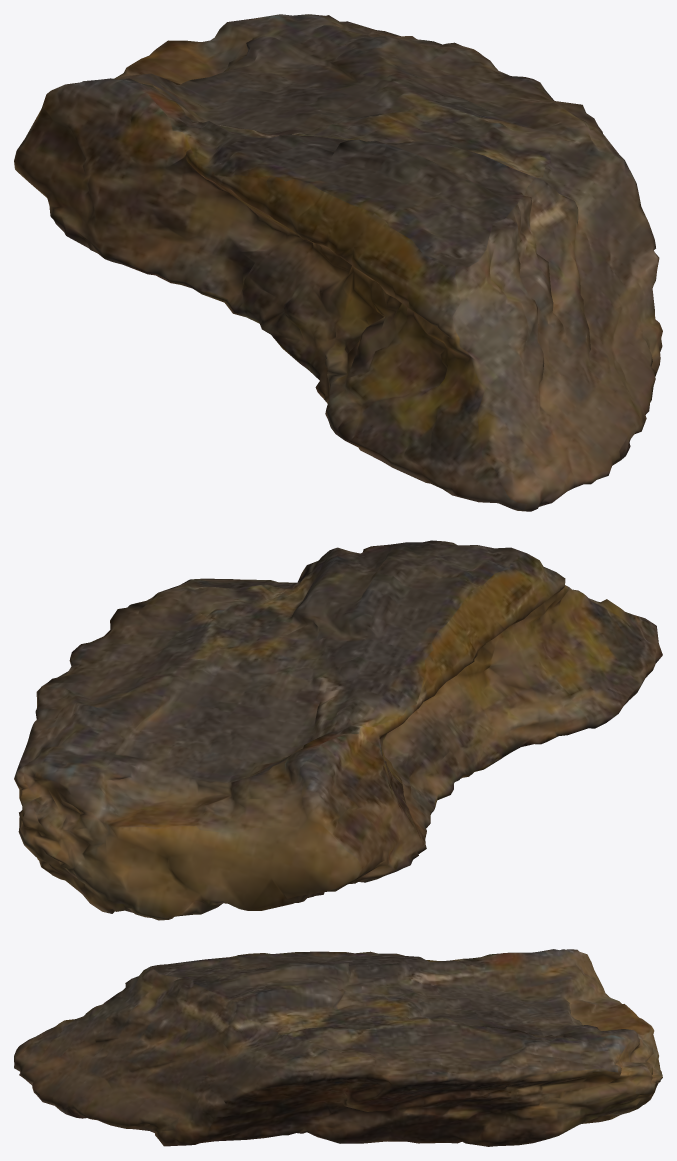
File: rock_09.glb
The picture shows the model from 3 angles, top to bottom: view 1: azimuth 30°, elevation 25°; view 2: azimuth 150°, elevation 25°; view 3: azimuth 270°, elevation 25°; orthographic projection. The views are drawn at different scales.
Visible parts, largest first — view 1: rock_09_LOD0; view 2: rock_09_LOD0; view 3: rock_09_LOD0.
Boxes of the visible parts, left/top/right/bottom form: rock_09_LOD0: left=14, top=14, right=662, bottom=511; rock_09_LOD0: left=14, top=540, right=662, bottom=920; rock_09_LOD0: left=14, top=949, right=662, bottom=1146.
Size of the model in its own units: 0.074 by 0.0328 by 0.1446.
1 material, 1 textured.
